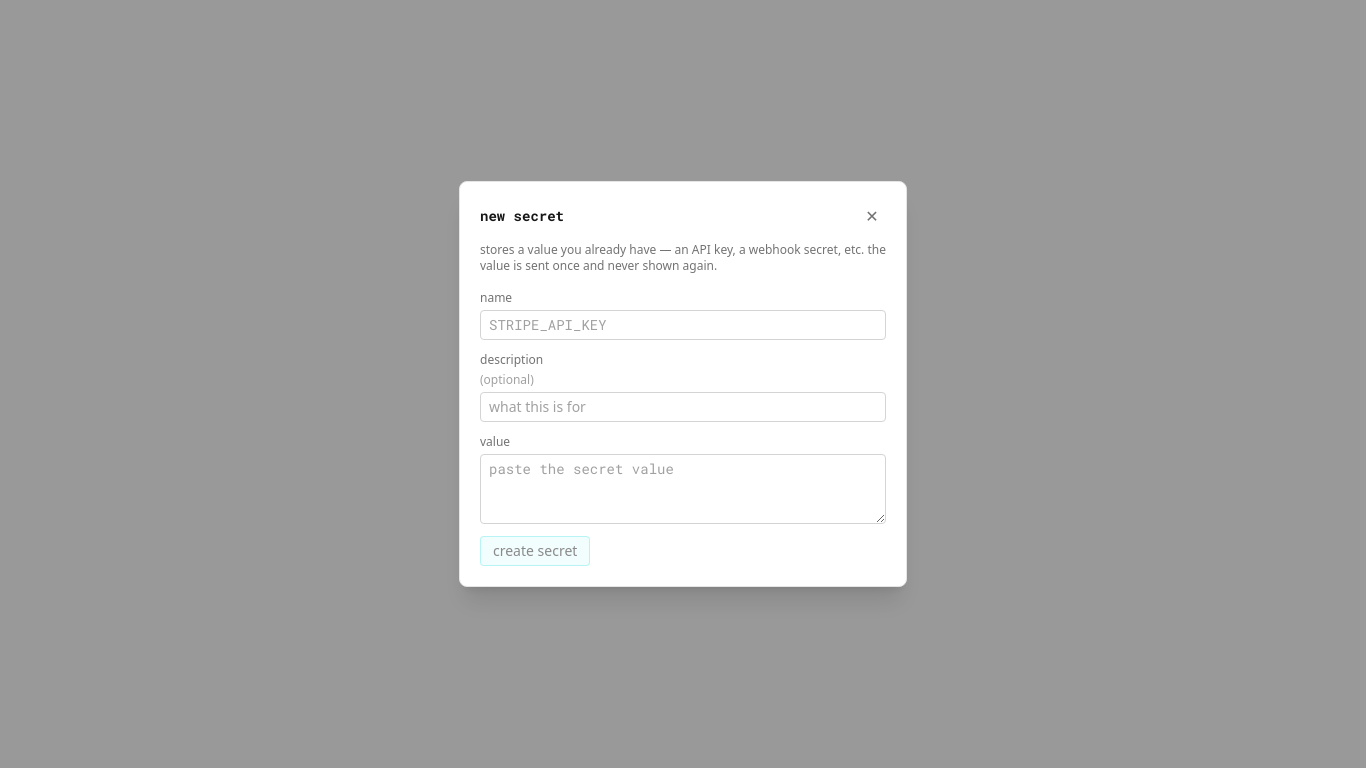
Test: NewSecretModal name handling › disables submit and shows an error for a leading digit
Type "1bad" into the field labelled "name" at point(683, 325), box [480, 310, 886, 340]
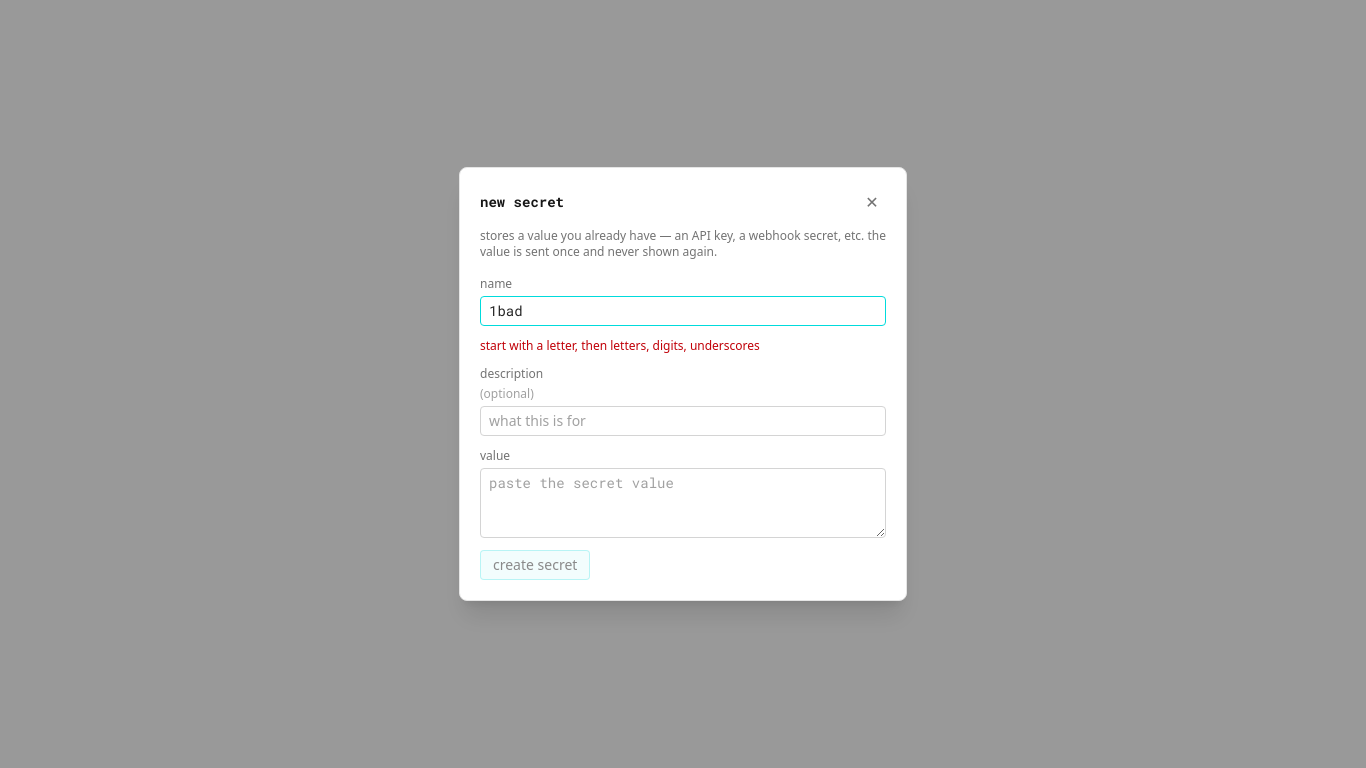
Expected: the button "create secret" is disabled, [480, 550, 590, 580]
Expected: the text "start with a letter, then letters, digits, underscores" is shown, [480, 337, 760, 354]
